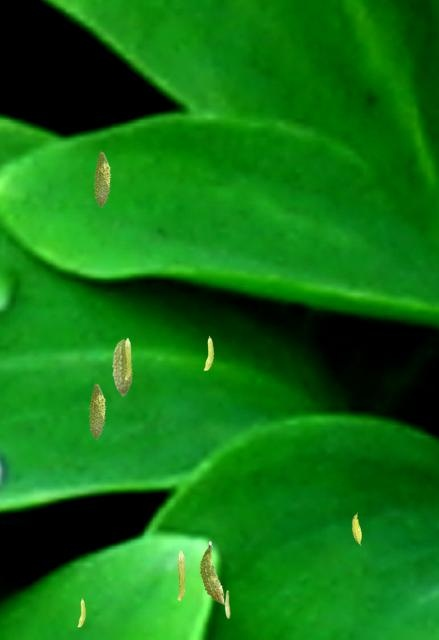ampalaya: (199, 541, 225, 605), (111, 338, 132, 397), (93, 151, 111, 207), (88, 383, 106, 439), (177, 550, 185, 601), (203, 335, 214, 371), (351, 511, 362, 545), (124, 337, 131, 380), (77, 597, 86, 627), (224, 590, 230, 619)
